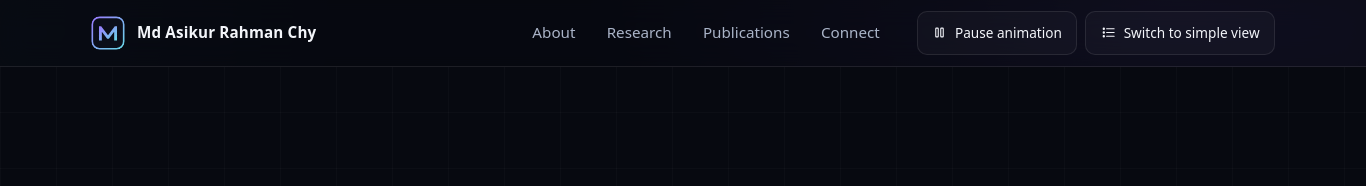
Test: display preferences › works when storage is blocked
Click the button "Pause animation" at (997, 33), box left=917, top=11, right=1077, bottom=55
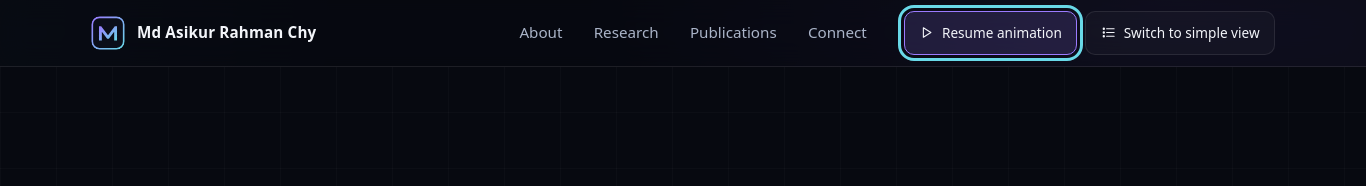
Result: the button "Resume animation" is shown at left=904, top=11, right=1077, bottom=55
